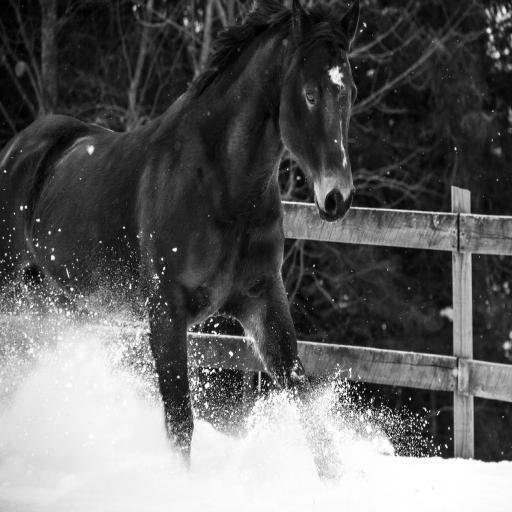horse: (0, 0, 360, 488)
